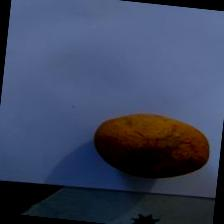Orange Rotten: (84, 96, 220, 194)
